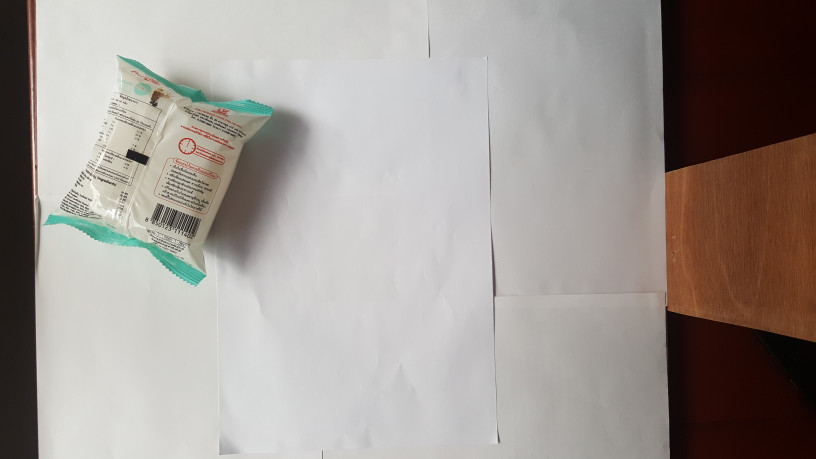farmhouse-sweetsandwich-chocolate: (46, 53, 276, 290)
